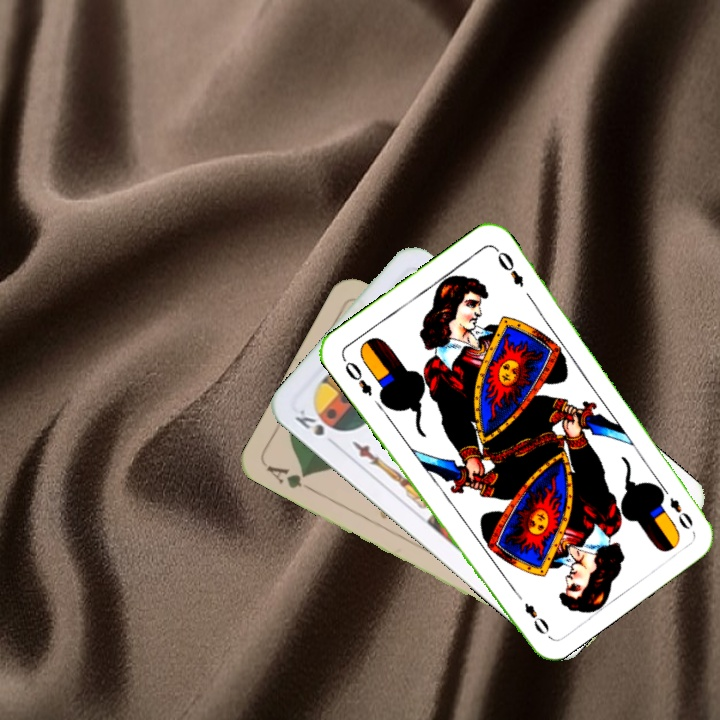EO: (338, 354, 375, 399), (665, 493, 696, 533)
GA: (262, 461, 317, 495)
SK: (290, 405, 341, 439)
